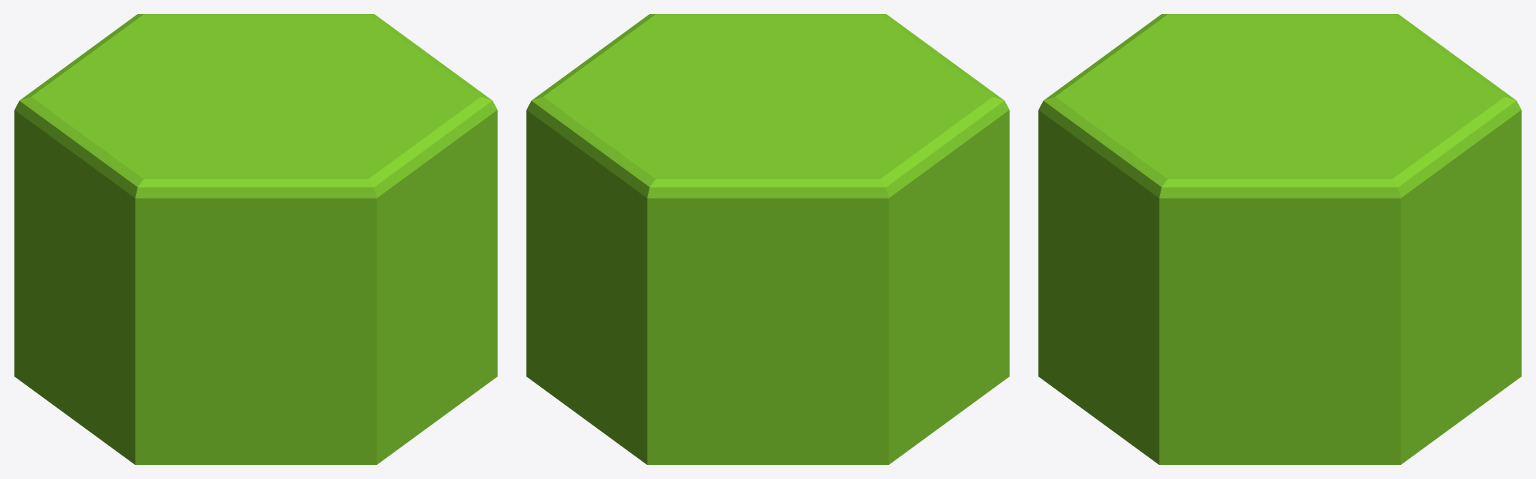
The model's file is Hex Tile Grass 04.glb.
3 renders of one model, left to right at view 1: azimuth 30°, elevation 25°; view 2: azimuth 150°, elevation 25°; view 3: azimuth 270°, elevation 25°, orthographic.
Parts seen in each view (by area): view 1: body.003; view 2: body.003; view 3: body.003.
Part boxes in pixels (box(x1,y1,x2,y2)): body.003: box(14, 14, 497, 464); body.003: box(526, 14, 1009, 464); body.003: box(1038, 14, 1521, 464).
Bounding box in the file's own units: 1.73 × 1.28 × 2.
